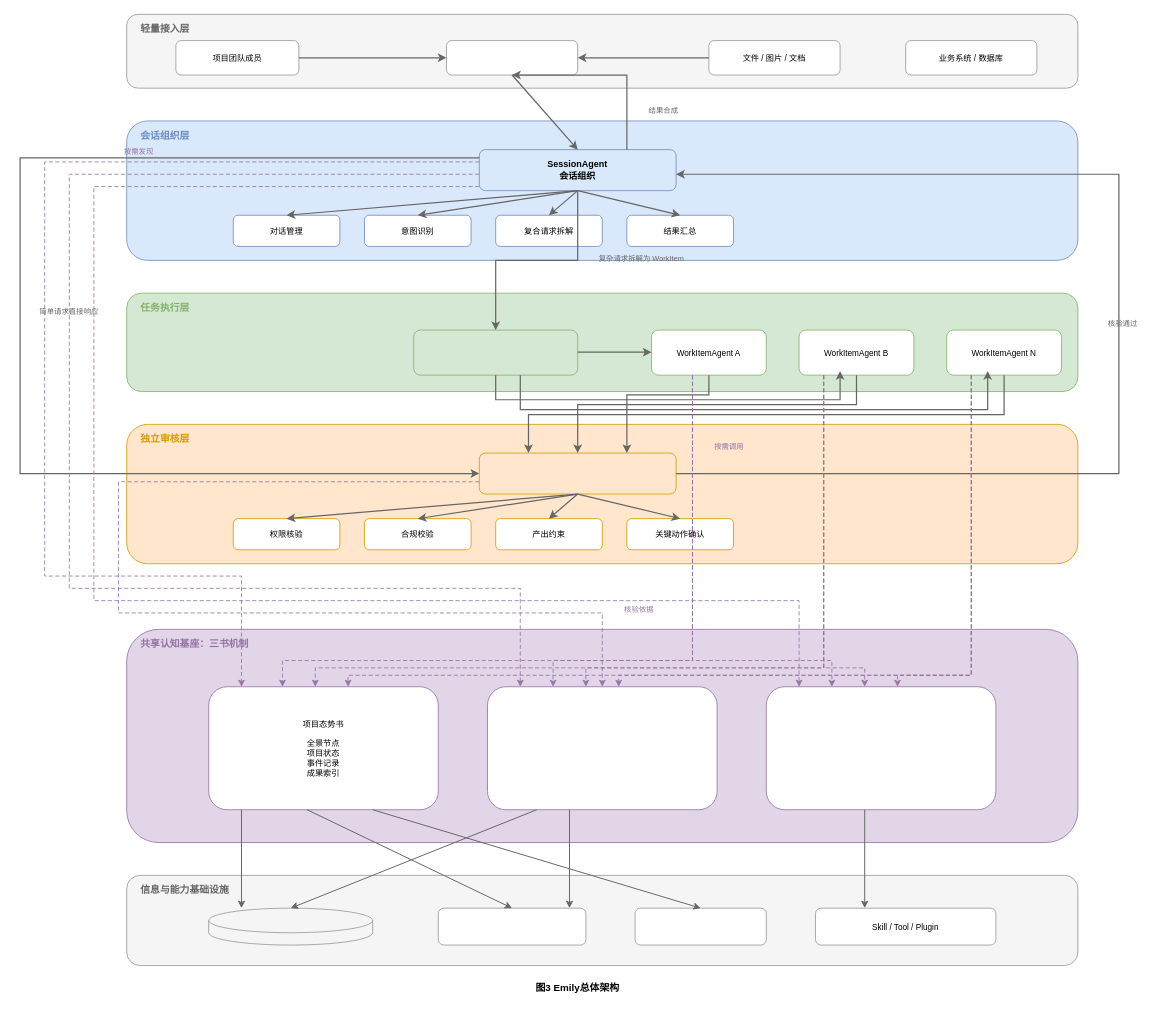
This 1166x1013 diagram has some shape labels left out. Here are the shapes that lost their labels. From the top down, the centre of each, then its label:
At [512,57]: "IM / 自然语言交互".
At [495,352]: "工作项调度 / 隔离执行".
At [577,473]: "GuardianAgent".
At [602,748]: "组织规则书 企业制度 验收标准 权限规则 规范要求".
At [880,748]: "系统能力书 Skill索引 工具 / 插件 能力注册 渐进式发现".
At [290,926]: "结构化数据库".
At [511,926]: "RAG知识库".
At [700,926]: "事件记录".
